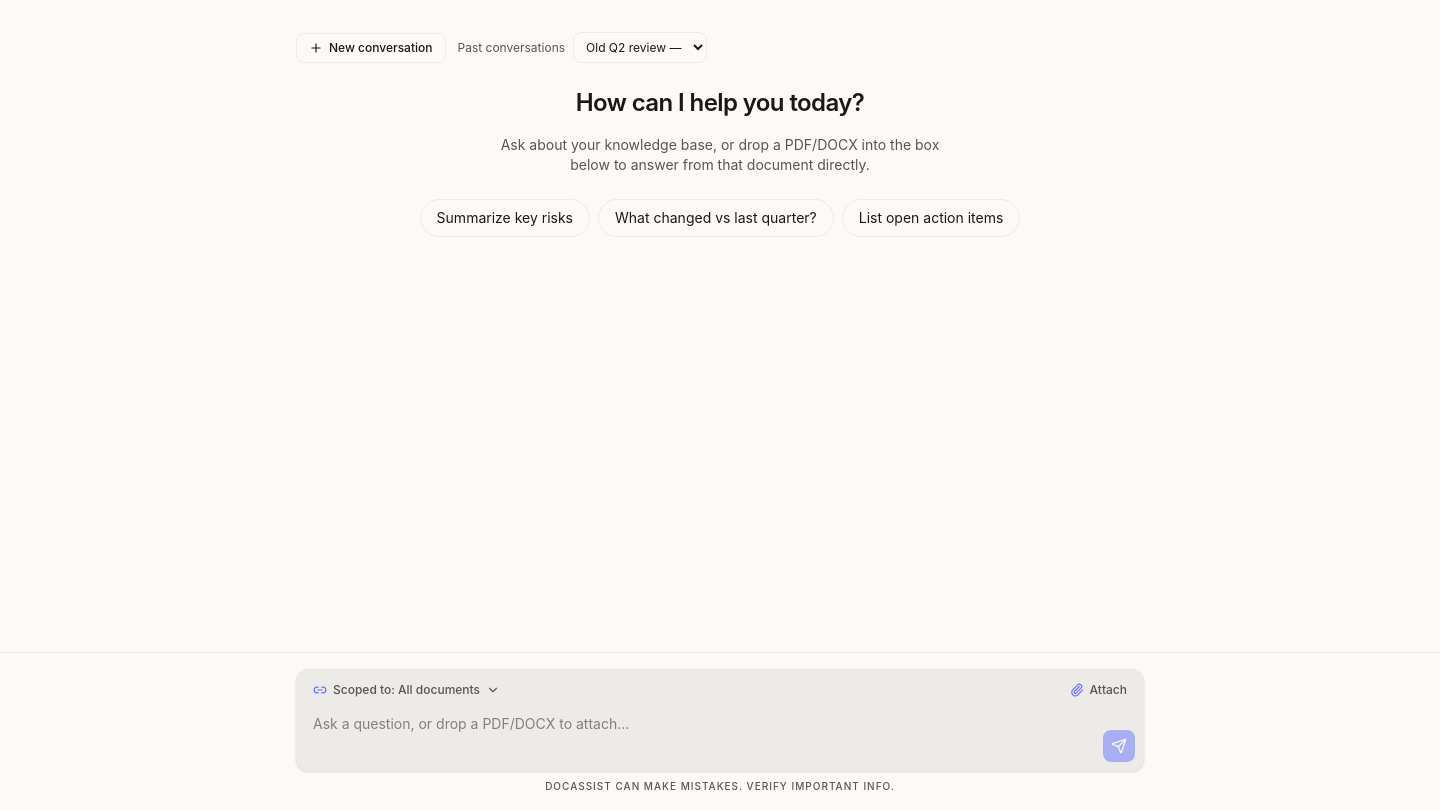
Test case: ChatPage (M8) › renders a past conversation transcript when a session is reopened
Select "Old Q2 review —" in the dropdown labelled "Past conversations" at [640, 48], box [573, 32, 707, 63]
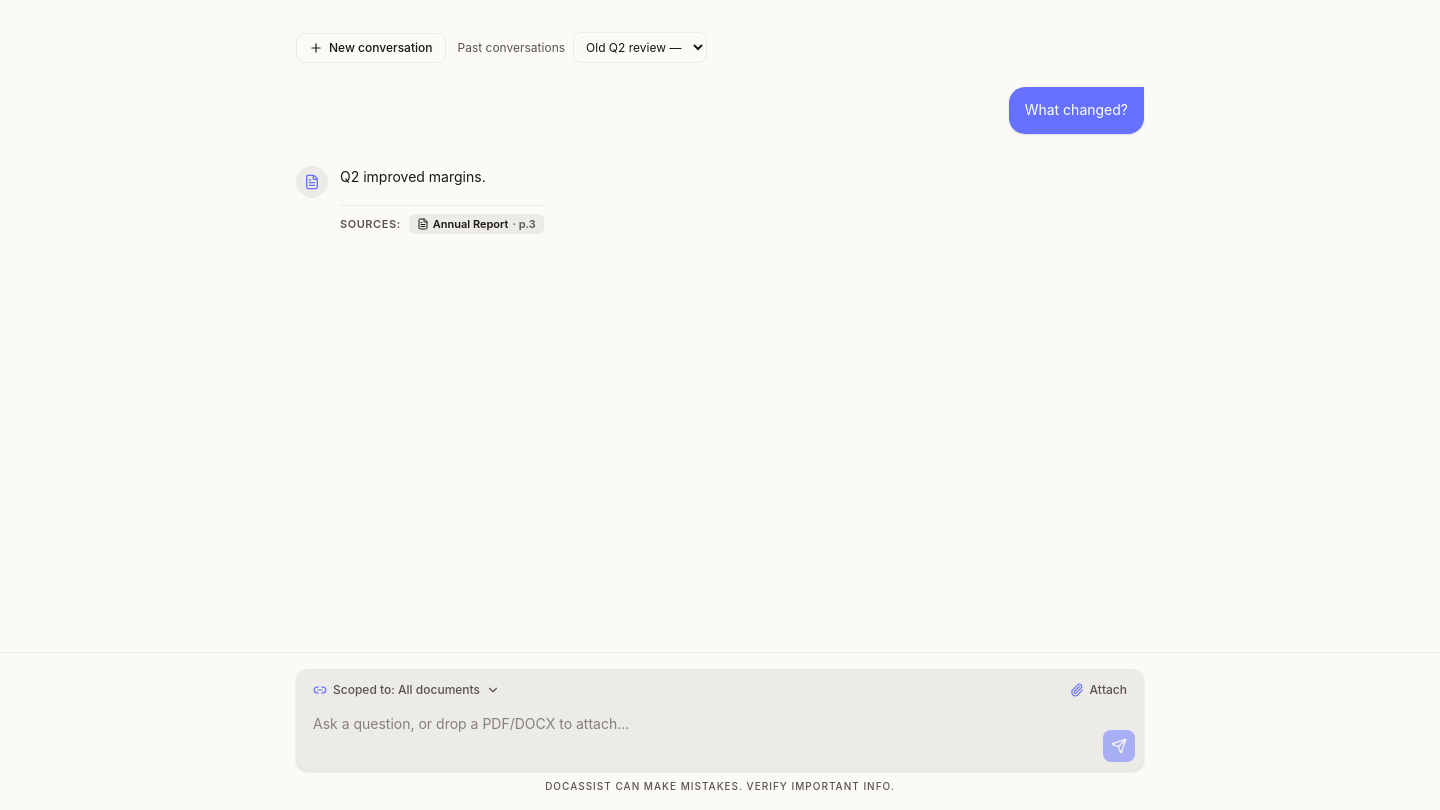
Expected: the text "What changed?" is shown, [1009, 87, 1144, 134]
Expected: the text "Q2 improved margins." is shown, [340, 168, 486, 185]
